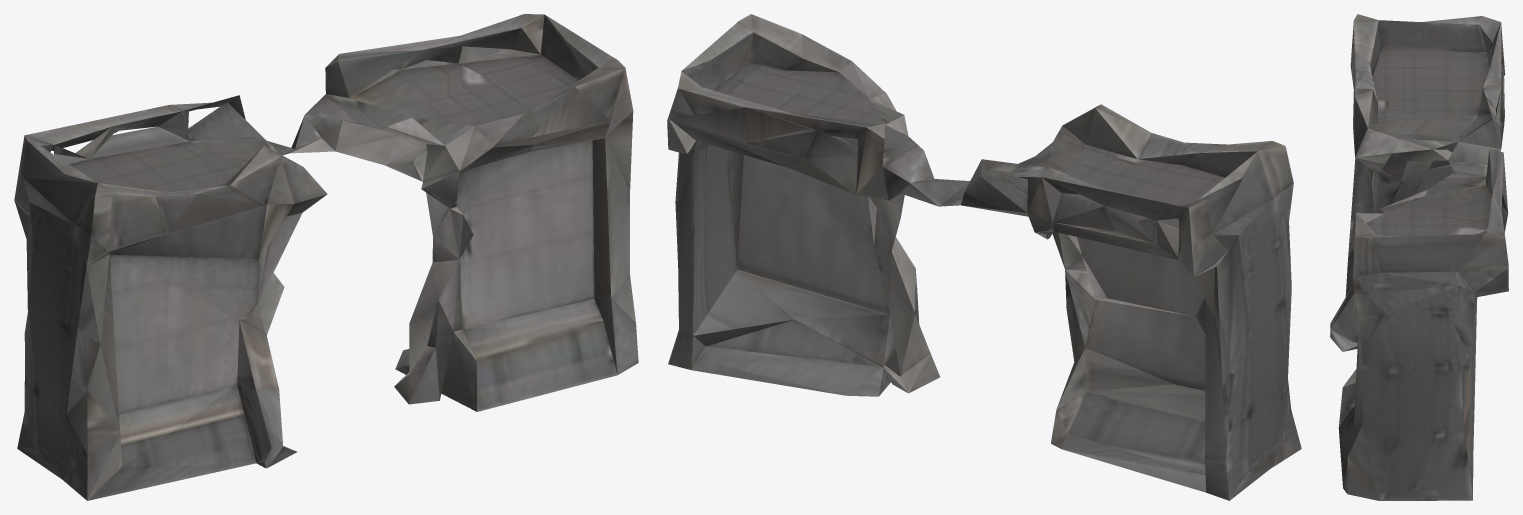
File: imperial_city_wall_straight_breached_lod2.glb
The picture shows the model from 3 angles, left to right: view 1: azimuth 30°, elevation 25°; view 2: azimuth 150°, elevation 25°; view 3: azimuth 270°, elevation 25°; orthographic projection. The views are drawn at different scales.
Parts seen in each view (by area): view 1: mesh_node; view 2: mesh_node; view 3: mesh_node.
Boxes of the visible parts, x1,y1,x2,y2 form: mesh_node: (14, 14, 638, 500); mesh_node: (667, 14, 1301, 500); mesh_node: (1330, 14, 1508, 500).
Bounding box in the file's own units: 11.89 × 6.05 × 3.79.
1 material, 1 textured.
